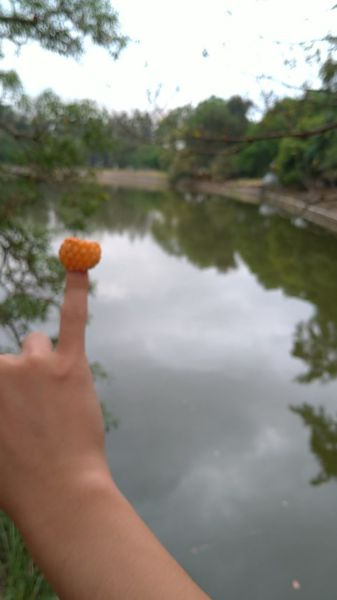eggs: (59, 239, 102, 271)
